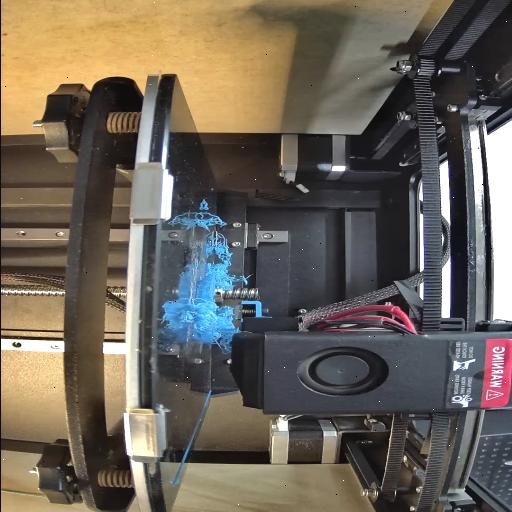spaghetti: (188, 302, 236, 348), (206, 235, 233, 287), (192, 210, 224, 230)
